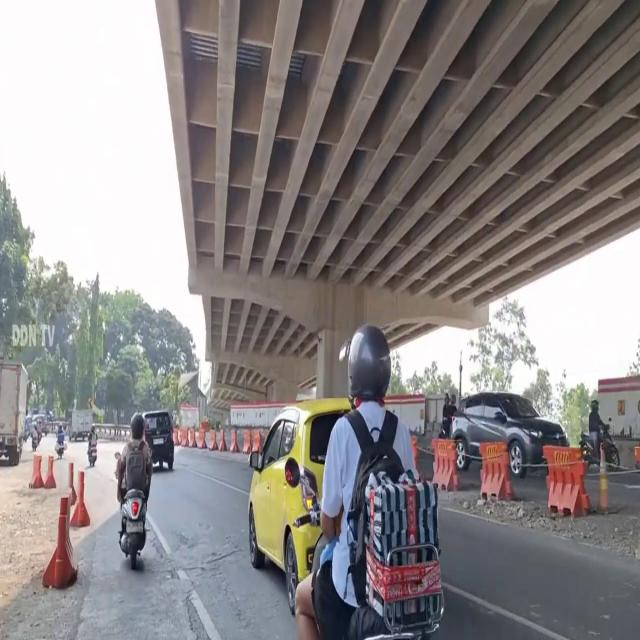WithHelmet: (292, 323, 419, 640), (115, 412, 153, 540), (589, 400, 605, 456), (88, 424, 98, 457), (55, 424, 65, 452)
